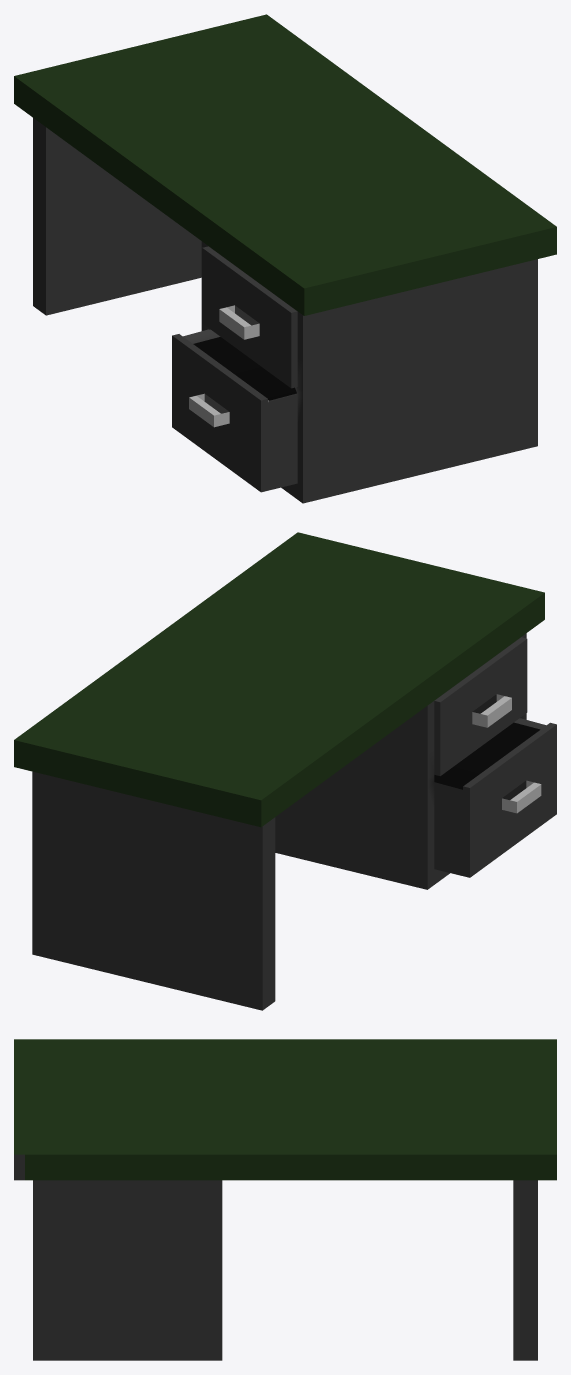
Rendered from Office Desk.fbx.
The picture shows the model from 3 angles, top to bottom: view 1: azimuth 30°, elevation 25°; view 2: azimuth 150°, elevation 25°; view 3: azimuth 270°, elevation 25°; orthographic projection. The views are drawn at different scales.
Visible parts, largest first — view 1: pCube1; view 2: pCube1; view 3: pCube1.
Part boxes in pixels (x1,y1,x2,y2): pCube1: (14, 14, 556, 503); pCube1: (14, 532, 556, 1010); pCube1: (14, 1039, 556, 1360).
Bounding box in the file's own units: 6.18 × 4.48 × 10.49.
